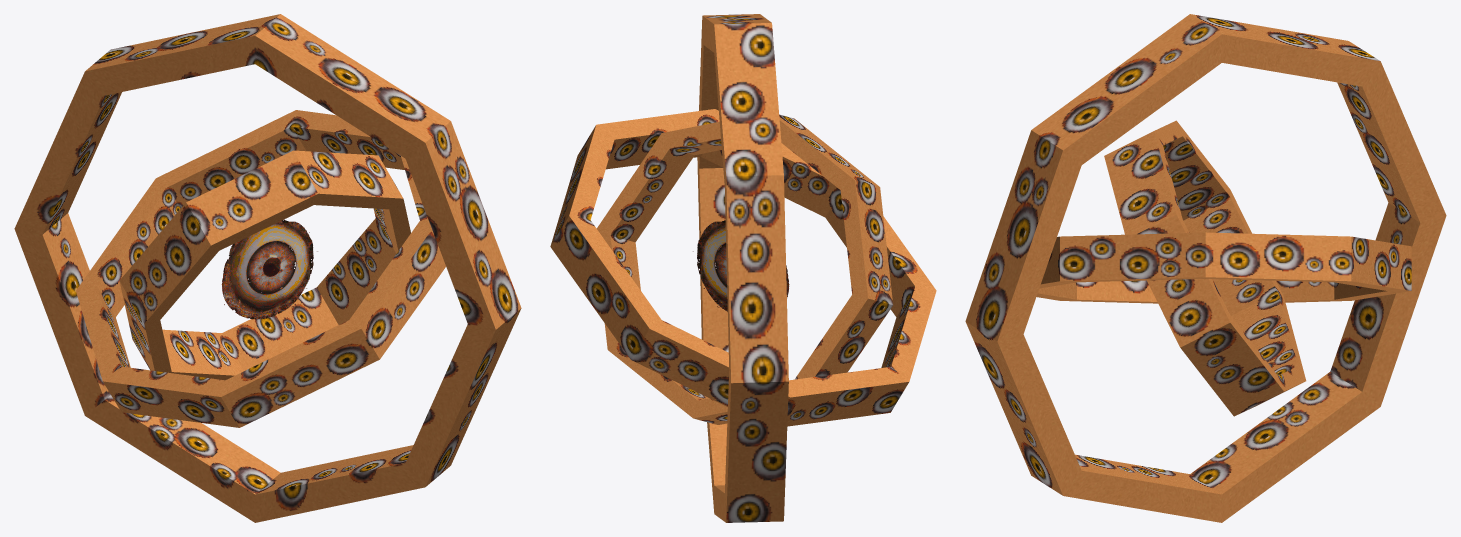
The model's file is ophanim_000007.obj.
3 views of the same model, side by side, from view 1: azimuth 30°, elevation 25°; view 2: azimuth 150°, elevation 25°; view 3: azimuth 270°, elevation 25° (orthographic).
Visible parts, largest first — view 1: Ring3, Ring2, Ring1, Eye; view 2: Ring3, Ring2, Ring1, Eye; view 3: Ring3, Ring1, Ring2.
Boxes of the visible parts, box(x1,y1,x2,y2) form: Ring3: box(14, 14, 521, 522); Ring2: box(76, 110, 445, 427); Ring1: box(119, 150, 410, 380); Eye: box(221, 219, 317, 319); Ring3: box(697, 14, 788, 522); Ring2: box(550, 109, 936, 426); Ring1: box(596, 114, 893, 424); Eye: box(693, 220, 789, 311); Ring3: box(965, 14, 1446, 522); Ring1: box(1104, 120, 1306, 416); Ring2: box(1036, 232, 1411, 303).
Bounding box in the file's own units: 0.246 × 0.3468 × 0.3095.
2 materials, 2 textured.
